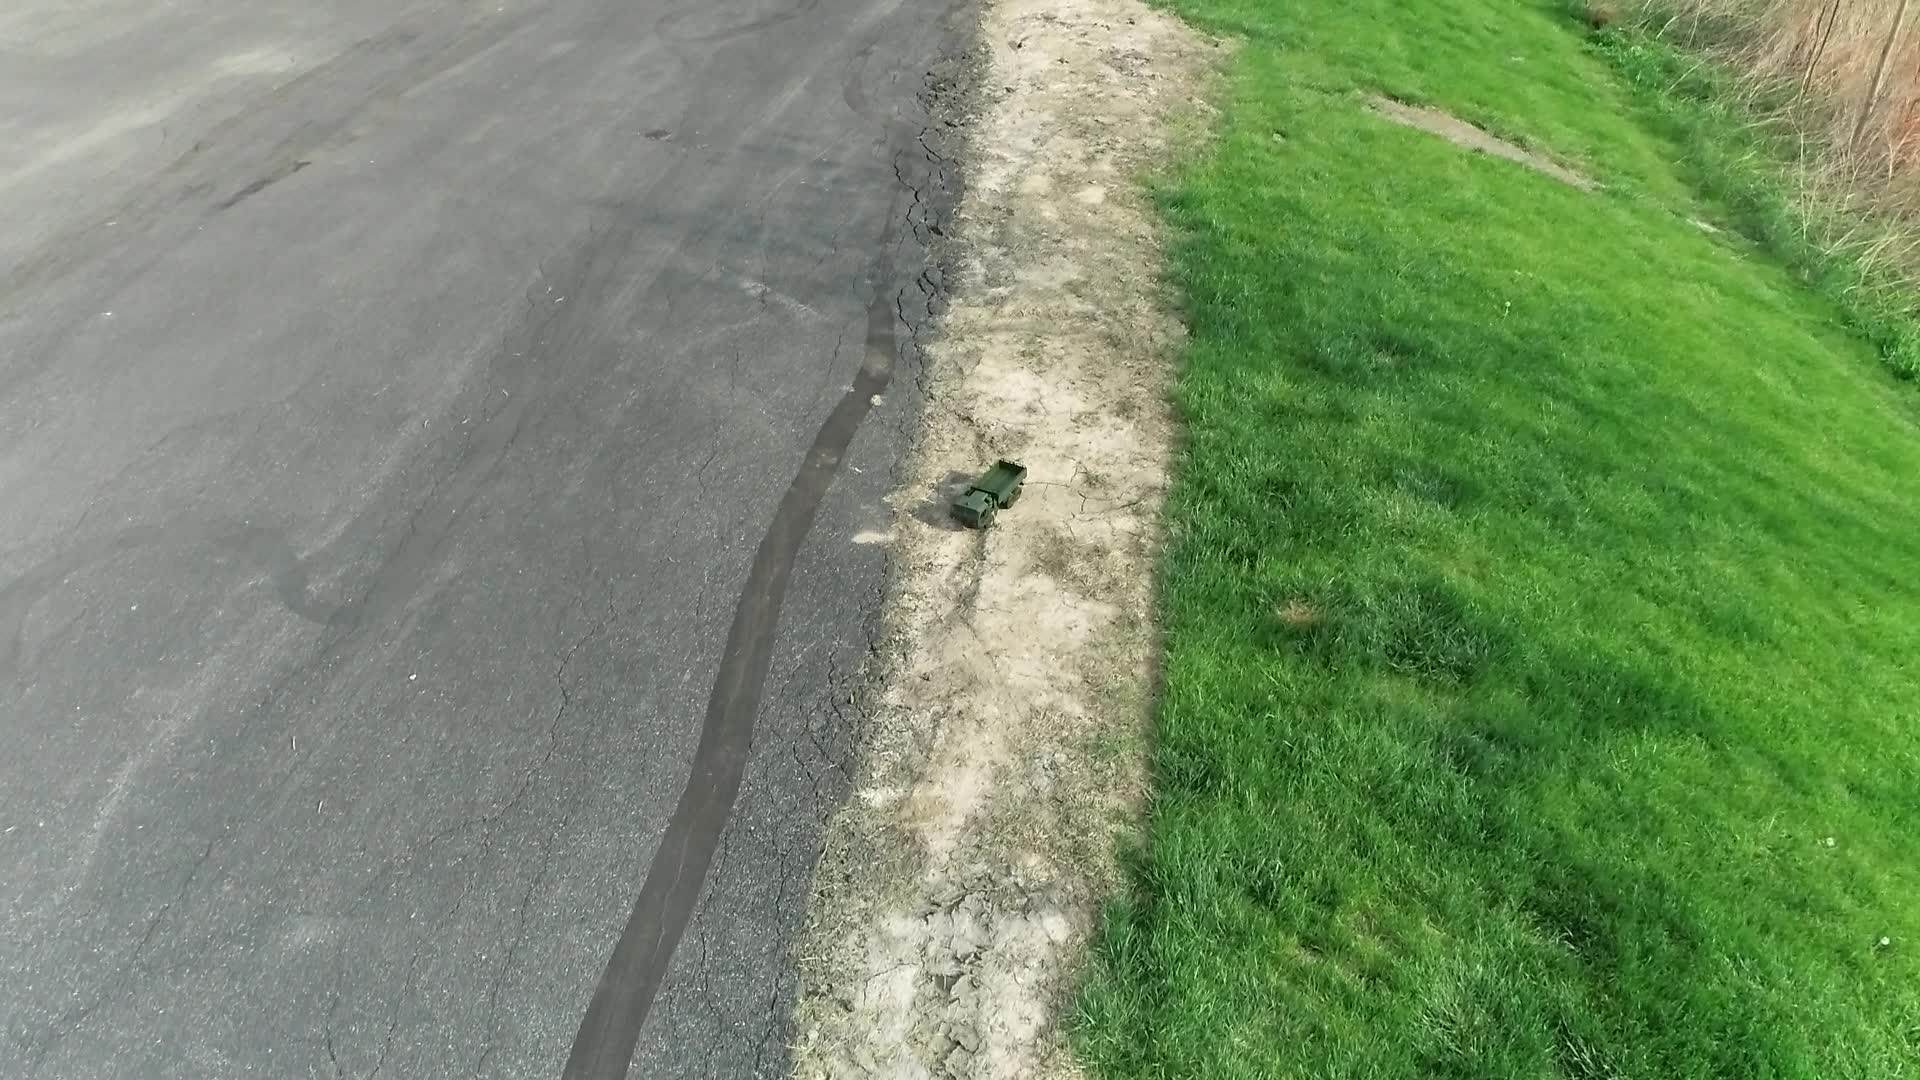transporter9: (945, 458, 1036, 531)
